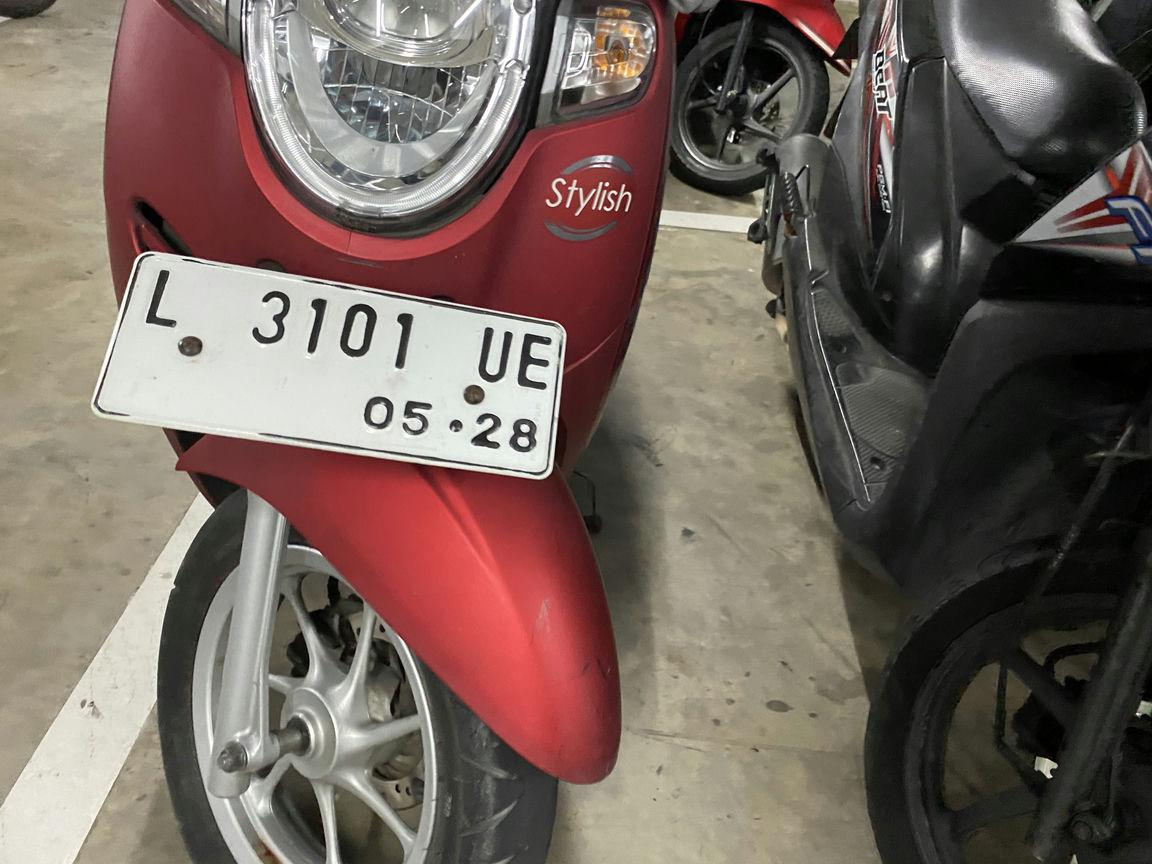plat: (92, 252, 567, 479)
